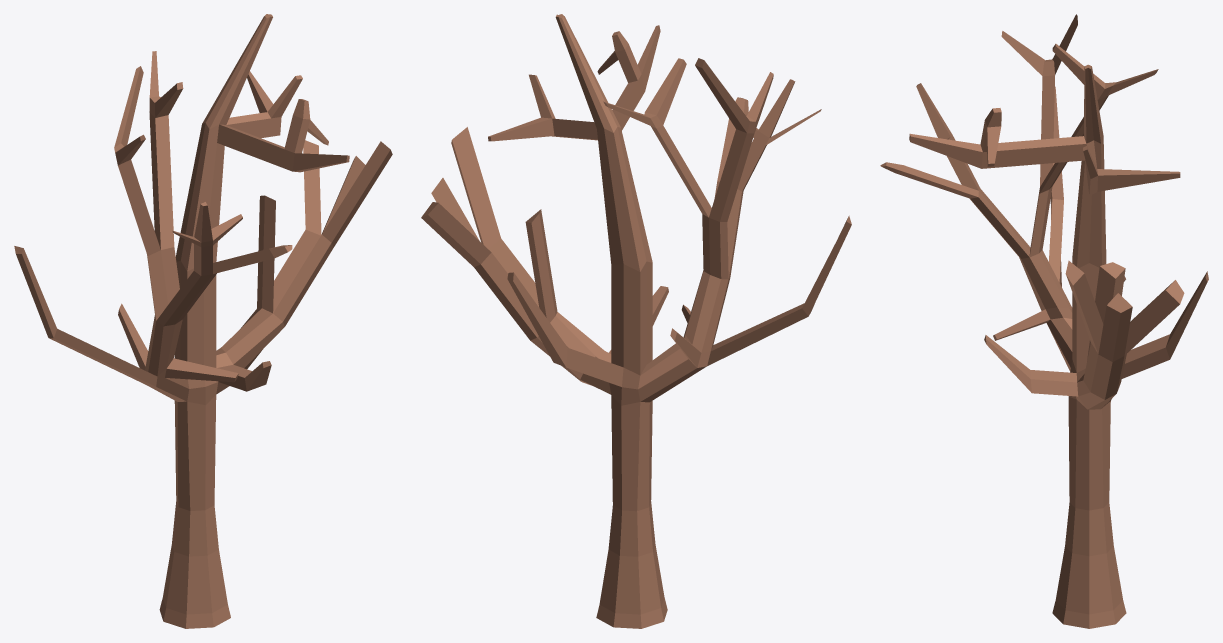
File: DeadTree_01.fbx
3 renders of one model, left to right at view 1: azimuth 30°, elevation 25°; view 2: azimuth 150°, elevation 25°; view 3: azimuth 270°, elevation 25°, orthographic.
Parts seen in each view (by area): view 1: Cylinder; view 2: Cylinder; view 3: Cylinder.
Boxes of the visible parts, x1,y1,x2,y2 form: Cylinder: (14,14,392,628); Cylinder: (421,14,851,628); Cylinder: (880,14,1208,628).
Bounding box in the file's own units: 387 × 552 × 283.
